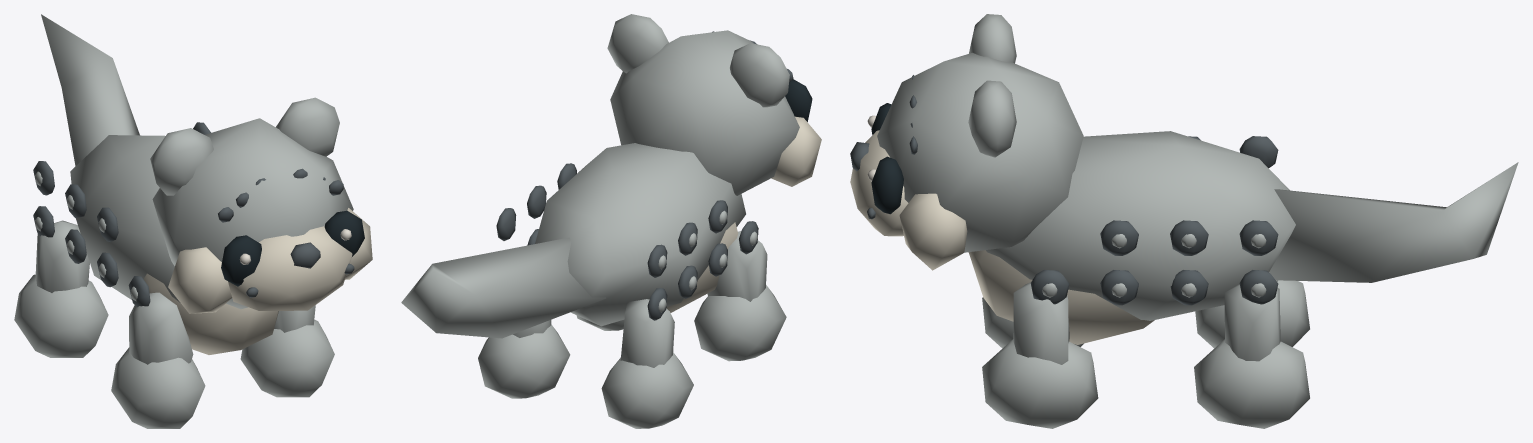
The model's file is org_snowleopard.glb.
The picture shows the model from 3 angles, left to right: view 1: azimuth 30°, elevation 25°; view 2: azimuth 150°, elevation 25°; view 3: azimuth 270°, elevation 25°; orthographic projection. The views are drawn at different scales.
Parts seen in each view (by area): view 1: Head, Body, Leg_FR, Leg_BR, Tail, Leg_FL, Eye_R, Eye_L; view 2: Body, Head, Tail, Leg_BR, Leg_FR, Leg_BL, Eye_R; view 3: Body, Head, Tail, Leg_FL, Leg_BL, Leg_BR, Eye_L, Leg_FR.
Boxes of the visible parts, box(x1,y1,x2,y2) form: Head: box(150, 97, 372, 313); Body: box(33, 122, 278, 354); Leg_FR: box(111, 292, 205, 428); Leg_BR: box(14, 220, 108, 357); Tail: box(41, 14, 139, 165); Leg_FL: box(240, 305, 334, 397); Eye_R: box(221, 235, 261, 286); Eye_L: box(324, 210, 364, 256); Body: box(496, 143, 758, 326); Head: box(607, 14, 821, 195); Tail: box(401, 237, 605, 338); Leg_BR: box(601, 299, 693, 428); Leg_FR: box(694, 231, 786, 361); Leg_BL: box(478, 320, 570, 398); Eye_R: box(785, 79, 812, 121); Body: box(968, 131, 1295, 344); Head: box(850, 14, 1083, 270); Tail: box(1269, 162, 1518, 282); Leg_FL: box(982, 282, 1098, 428); Leg_BL: box(1194, 284, 1309, 428); Leg_BR: box(1195, 280, 1309, 348); Eye_L: box(867, 156, 903, 214); Leg_FR: box(982, 297, 1083, 348).
Size of the model in its own units: 0.427 by 0.6145 by 1.09.
